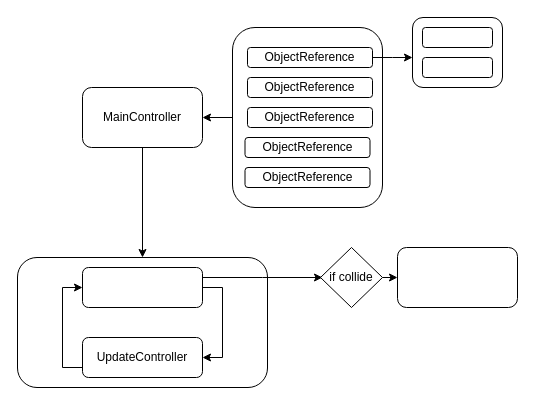
Image size: 535x405. Some labels were removed from this diagram. The box of each missing label's shape, as (x1, y1, x2, y2) in pixels:
Action: (422, 26, 492, 48)
ActionModel: (82, 266, 202, 308)
Attribute: (422, 56, 492, 78)
Call Object Action: (396, 246, 518, 308)
